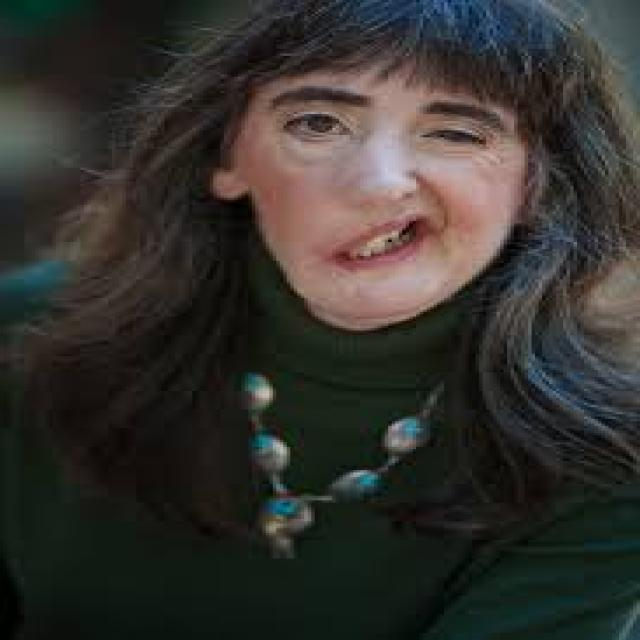stroke_face: (119, 8, 600, 352)
